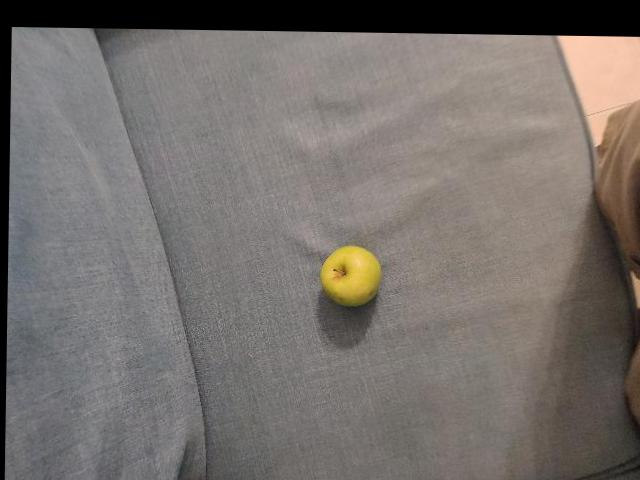apple: (311, 232, 405, 308)
